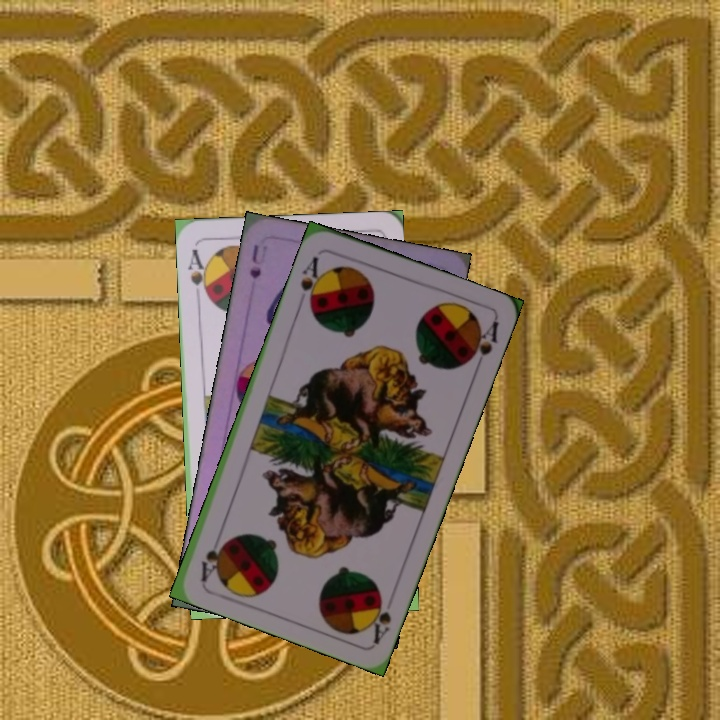SA: (295, 252, 327, 311), (363, 587, 394, 646), (183, 245, 212, 302)
SU: (245, 240, 270, 281)
